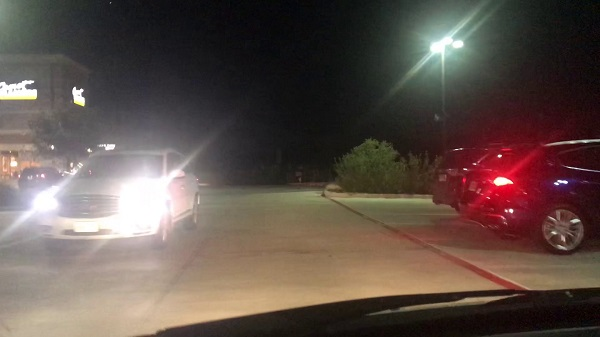car: (461, 128, 597, 255), (35, 145, 205, 245), (432, 135, 481, 223)
